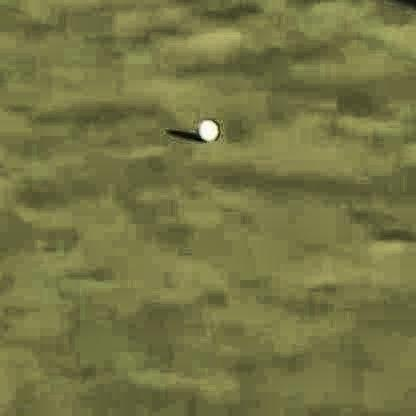golfball: (197, 114, 216, 138)
